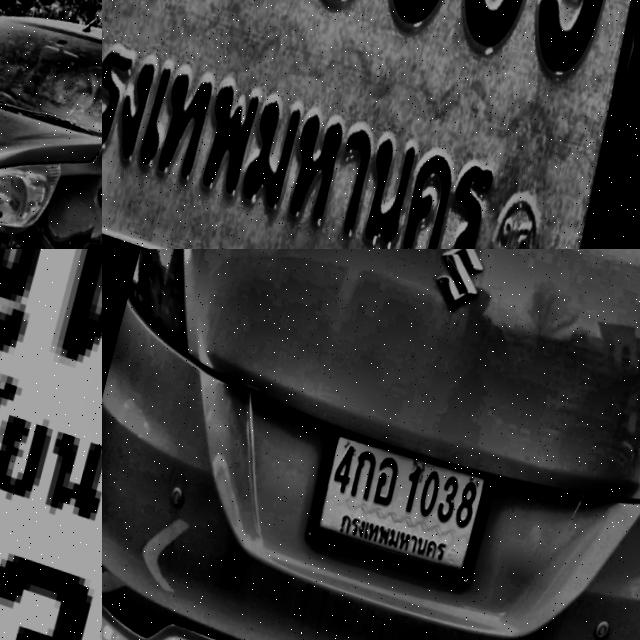license-plate: (102, 0, 640, 249), (0, 249, 102, 640), (299, 406, 502, 586)
